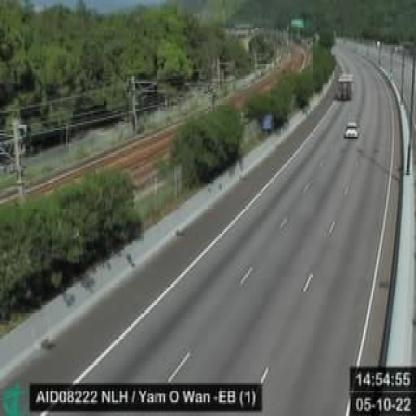Car: (343, 119, 359, 140)
Truck: (336, 74, 352, 99)
